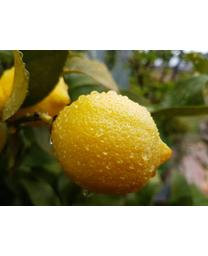lemon: (53, 91, 173, 189)
